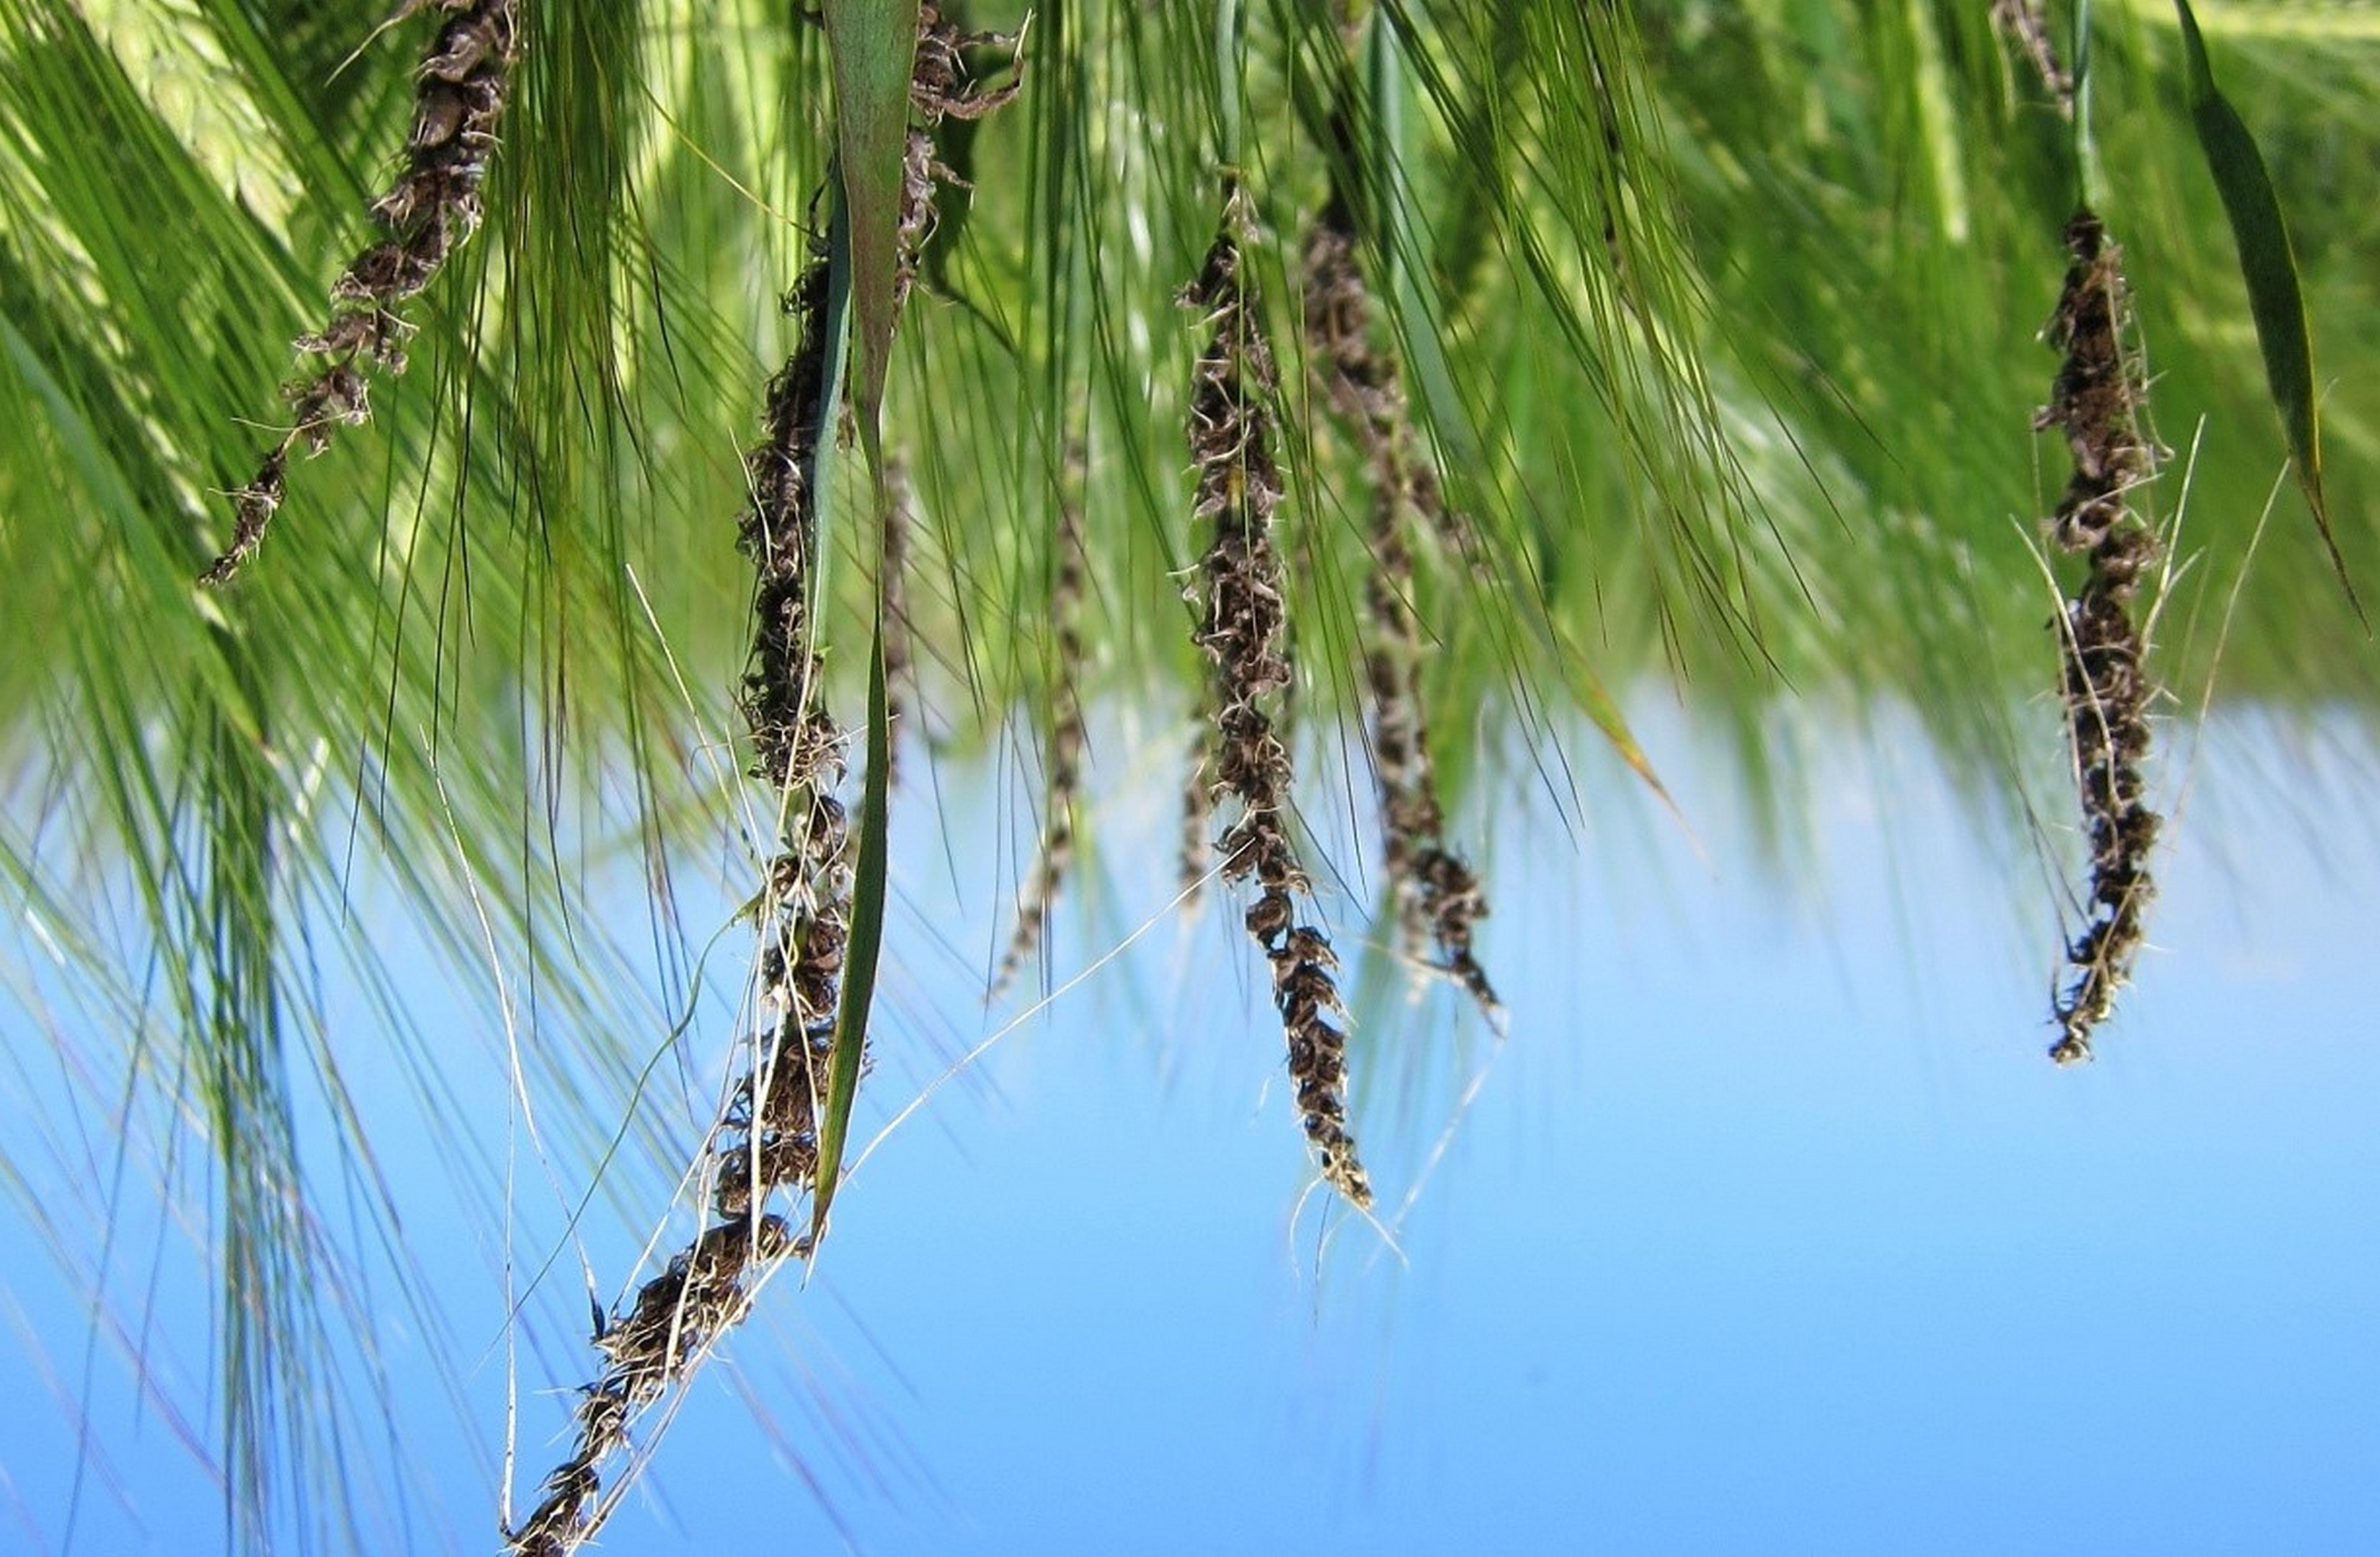Wheat Loose Smut: (610, 228, 1555, 1362), (2000, 207, 2241, 1079), (259, 0, 544, 466)
